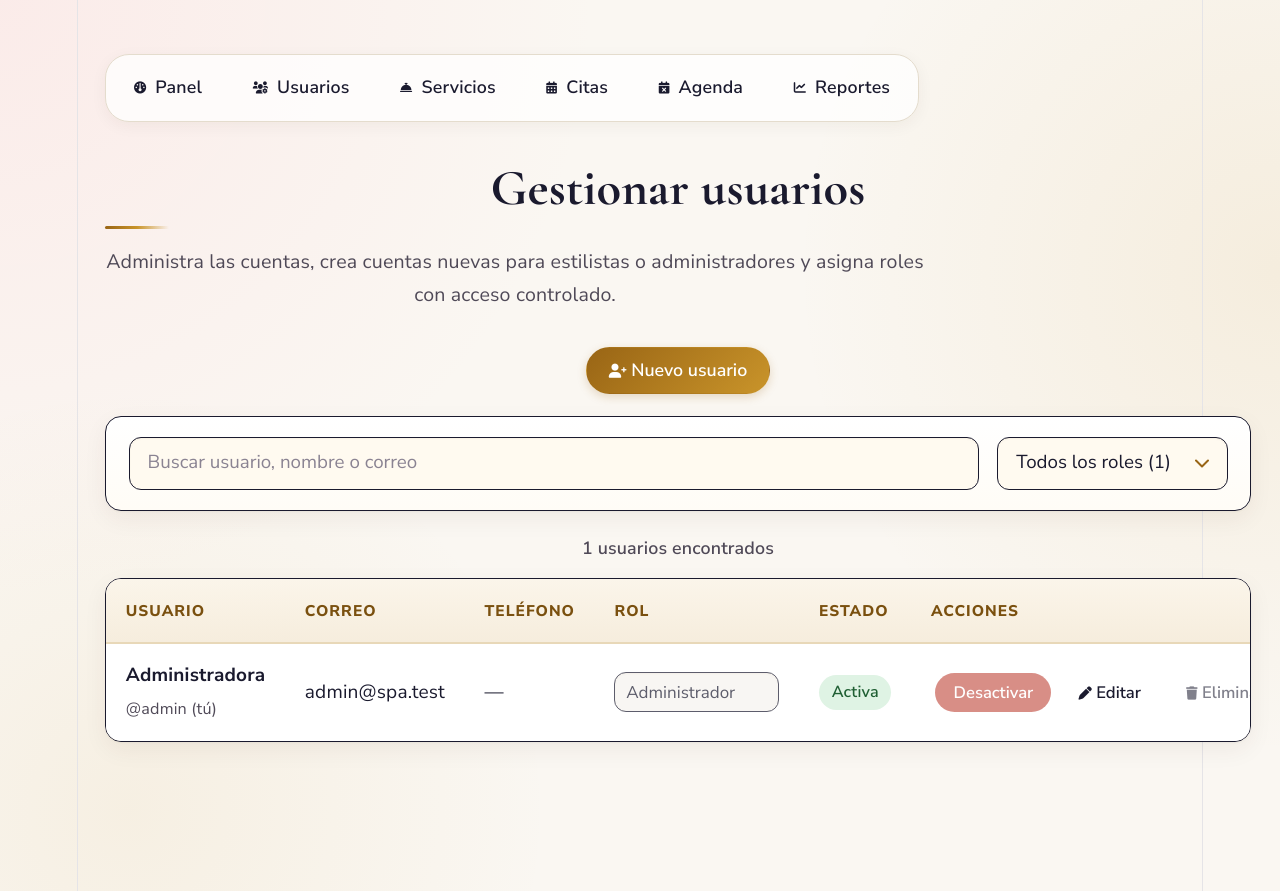
Scenario: AdminUsers › mantiene el formulario abierto y muestra el error de la API
The image size is (1280, 891).
Expected: the text "Administradora" is shown, top-left (126, 659), bottom-right (265, 692)
Click the button "Nuevo usuario" at (678, 370), box top-left (586, 347), bottom-right (770, 394)
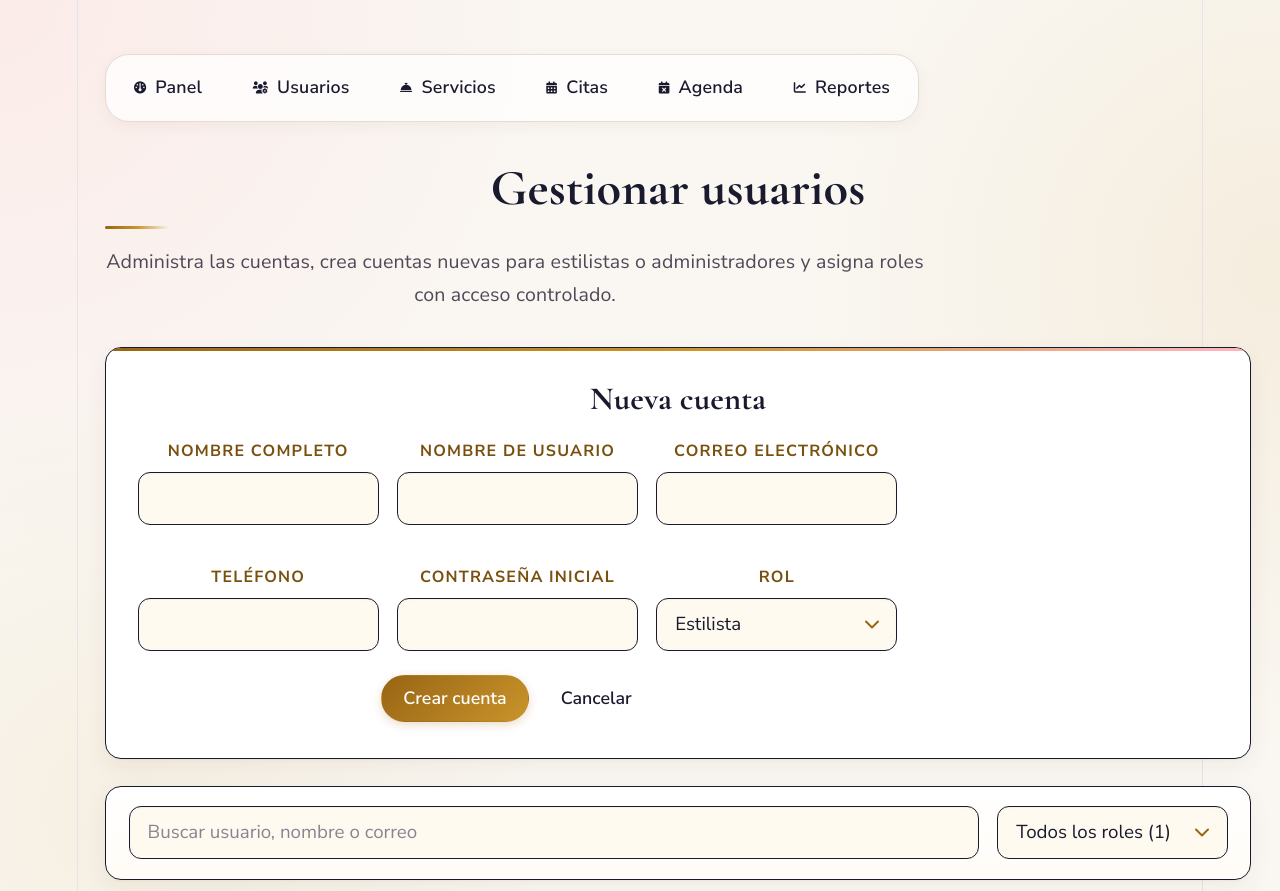
Type "Otra" into the field labelled "Nombre completo" at (258, 498), box top-left (138, 472), bottom-right (379, 525)
Type "admin" into the field labelled "Nombre de usuario" at (517, 498), box top-left (397, 472), bottom-right (638, 525)
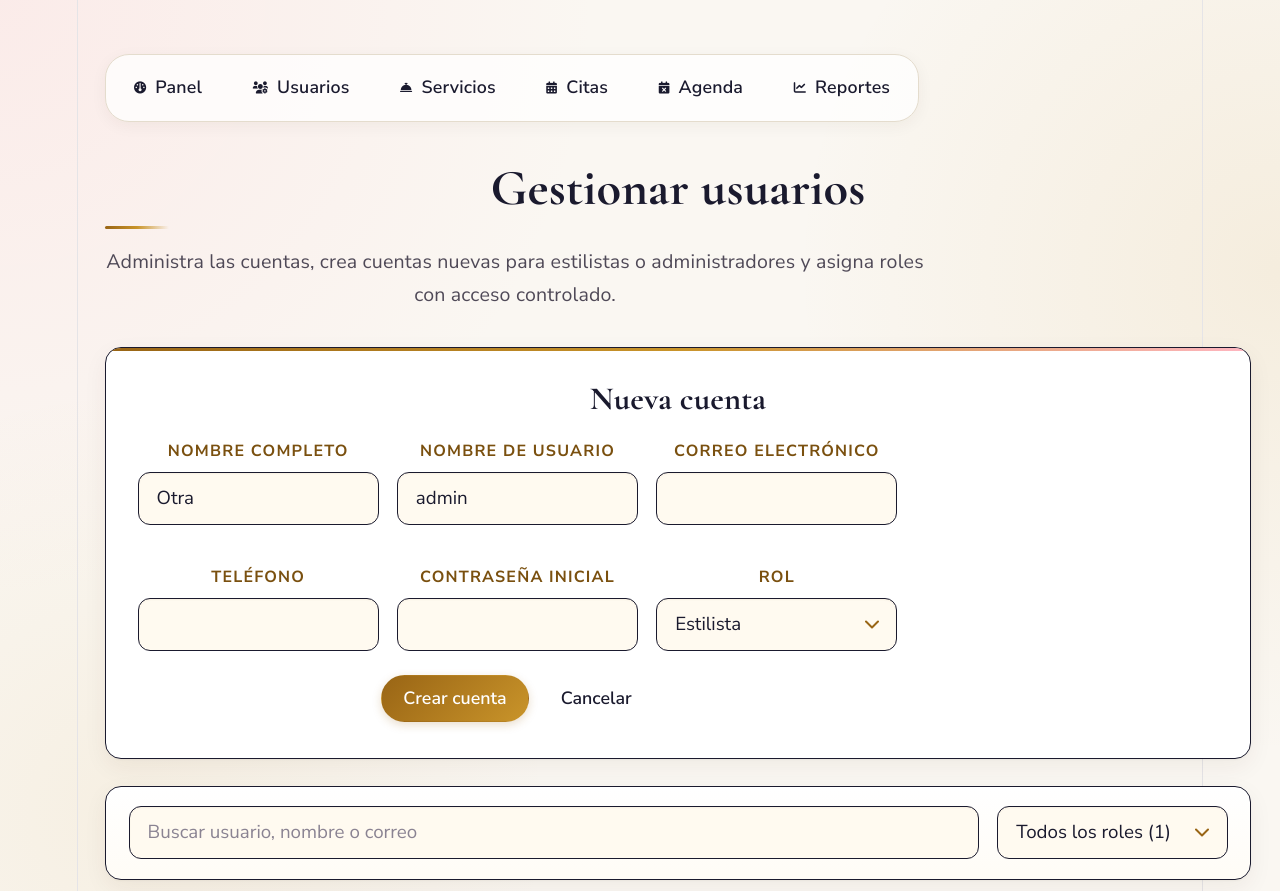
Type "otra@spa.test" into the field labelled "Correo electrónico" at (777, 498), box top-left (656, 472), bottom-right (898, 525)
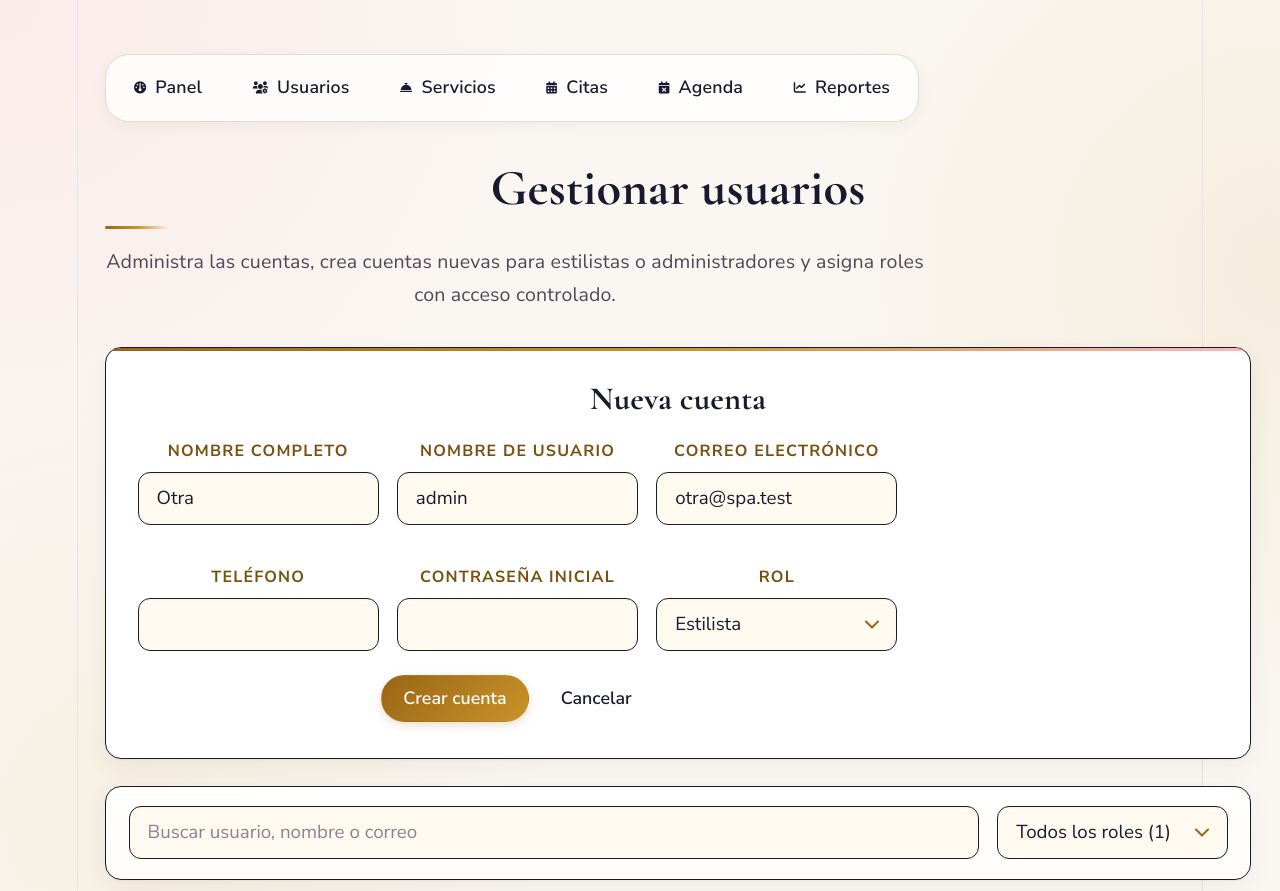
Type "clave-segura" into the password field labelled "Contraseña inicial" at (517, 625), box top-left (397, 598), bottom-right (638, 651)
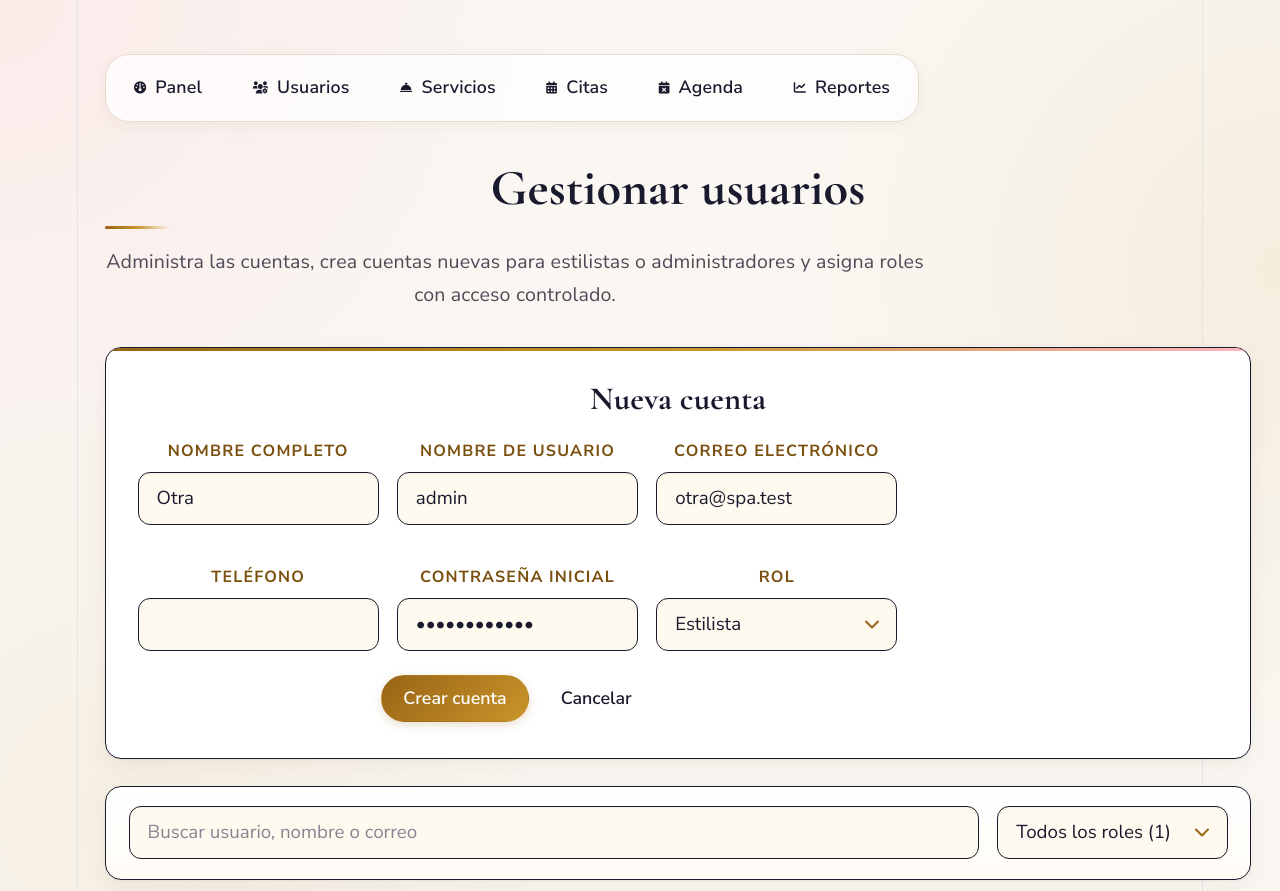
Select "Administrador" in the dropdown labelled "Rol" at (777, 625), box top-left (656, 598), bottom-right (898, 651)
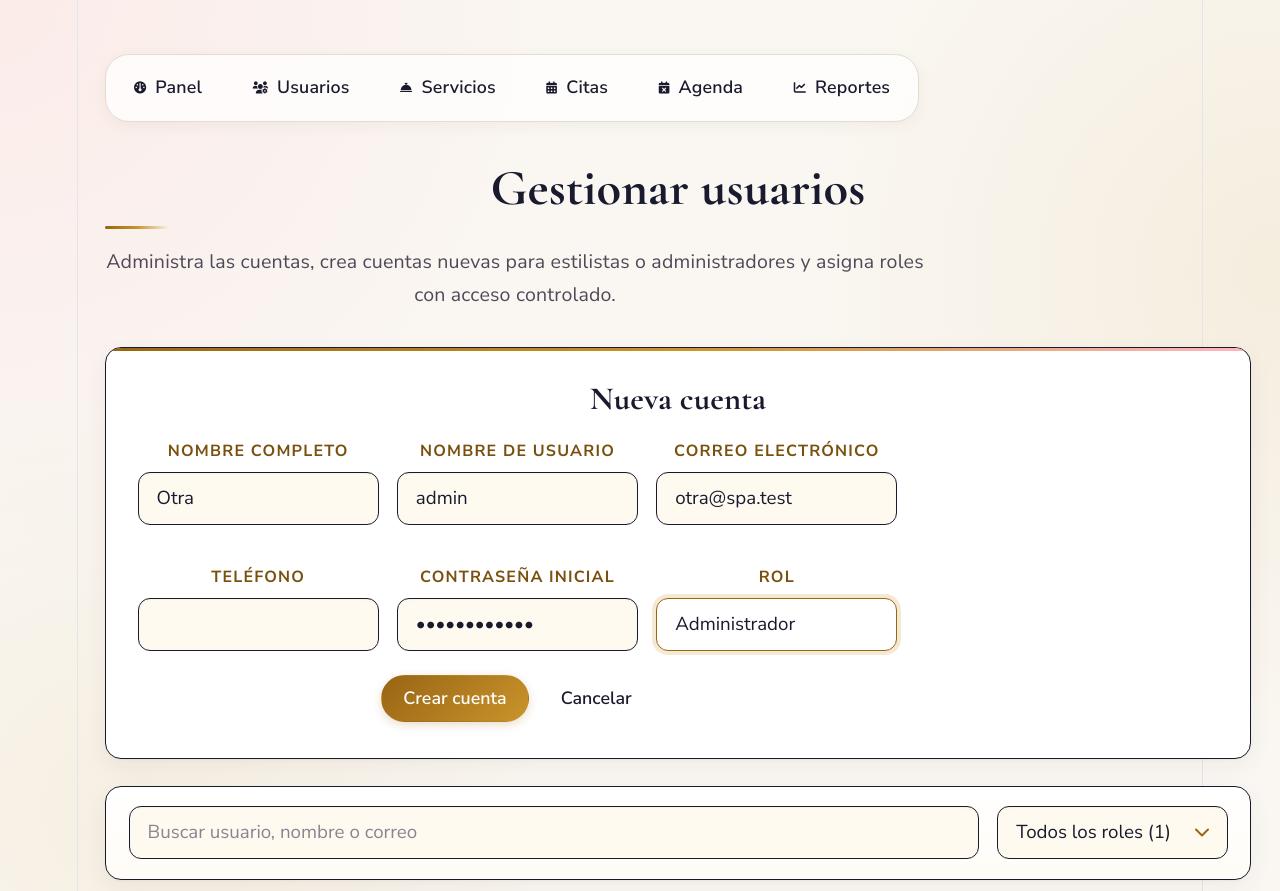
Click the button "Crear cuenta" at (455, 699), box top-left (381, 675), bottom-right (529, 722)
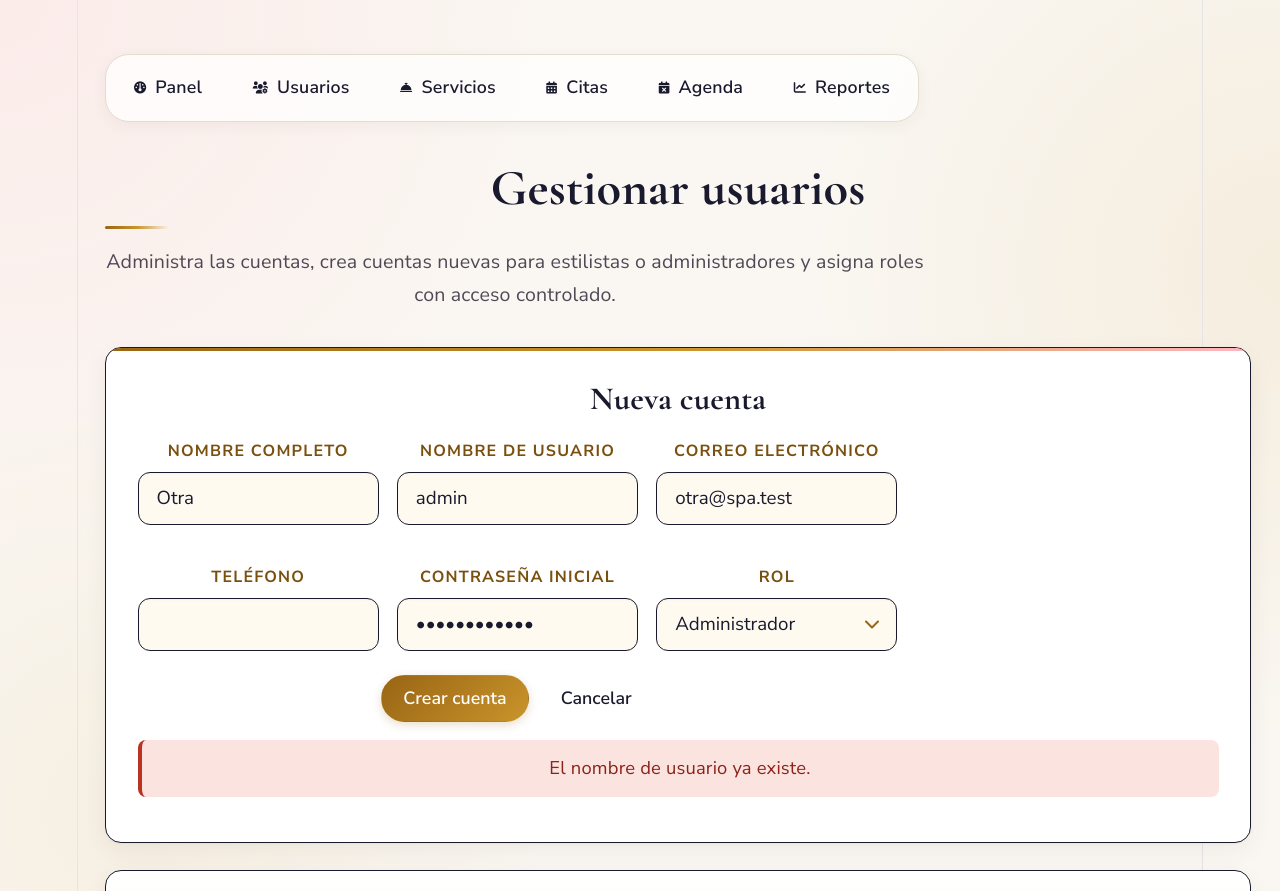
Now the message reads "El nombre de usuario ya existe.", box top-left (549, 755), bottom-right (811, 780)
